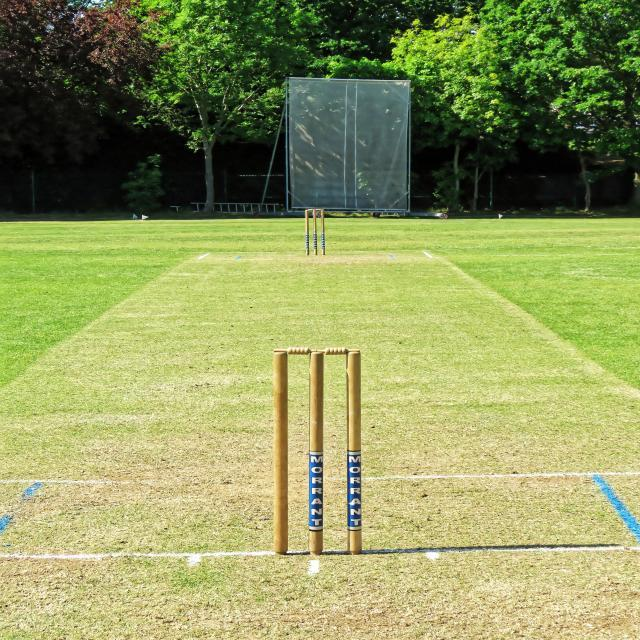stumps: (270, 345, 367, 561), (303, 207, 327, 259)
